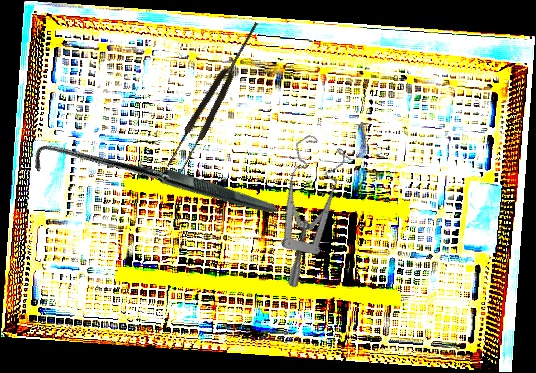Hook Surgical: (27, 56, 279, 312)
Speculum: (227, 126, 378, 290)
Tissue Forceps: (164, 18, 267, 175)
